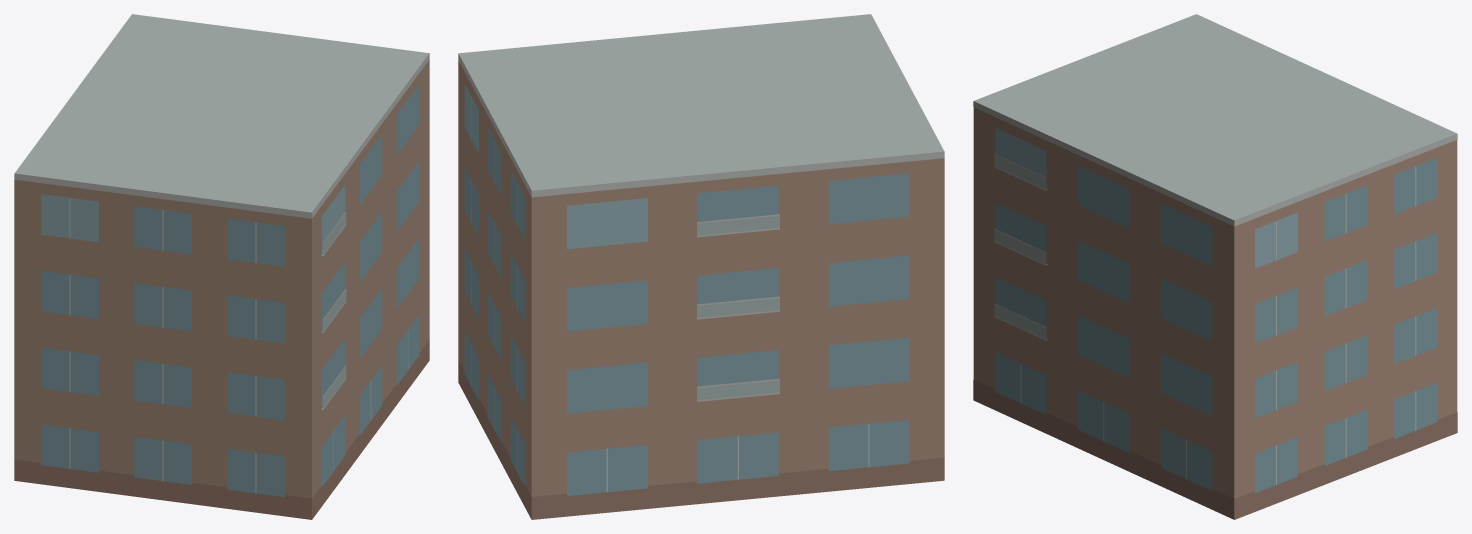
Rendered from residential-c31090a2-faa6-4b25-b32f-3cefda4fc637.glb.
3 renders of one model, left to right at view 1: azimuth 30°, elevation 25°; view 2: azimuth 150°, elevation 25°; view 3: azimuth 270°, elevation 25°, orthographic. The views are drawn at different scales.
Parts seen in each view (by area): view 1: residential-c31090a2-faa6-4b25-b32f-3cefda4fc637.tmp; view 2: residential-c31090a2-faa6-4b25-b32f-3cefda4fc637.tmp; view 3: residential-c31090a2-faa6-4b25-b32f-3cefda4fc637.tmp.
Part boxes in pixels (box(x1,y1,x2,y2)): residential-c31090a2-faa6-4b25-b32f-3cefda4fc637.tmp: box(14, 14, 429, 519); residential-c31090a2-faa6-4b25-b32f-3cefda4fc637.tmp: box(458, 14, 944, 519); residential-c31090a2-faa6-4b25-b32f-3cefda4fc637.tmp: box(973, 14, 1457, 519).
Bounding box in the file's own units: 18.06 × 12.2 × 17.89.
